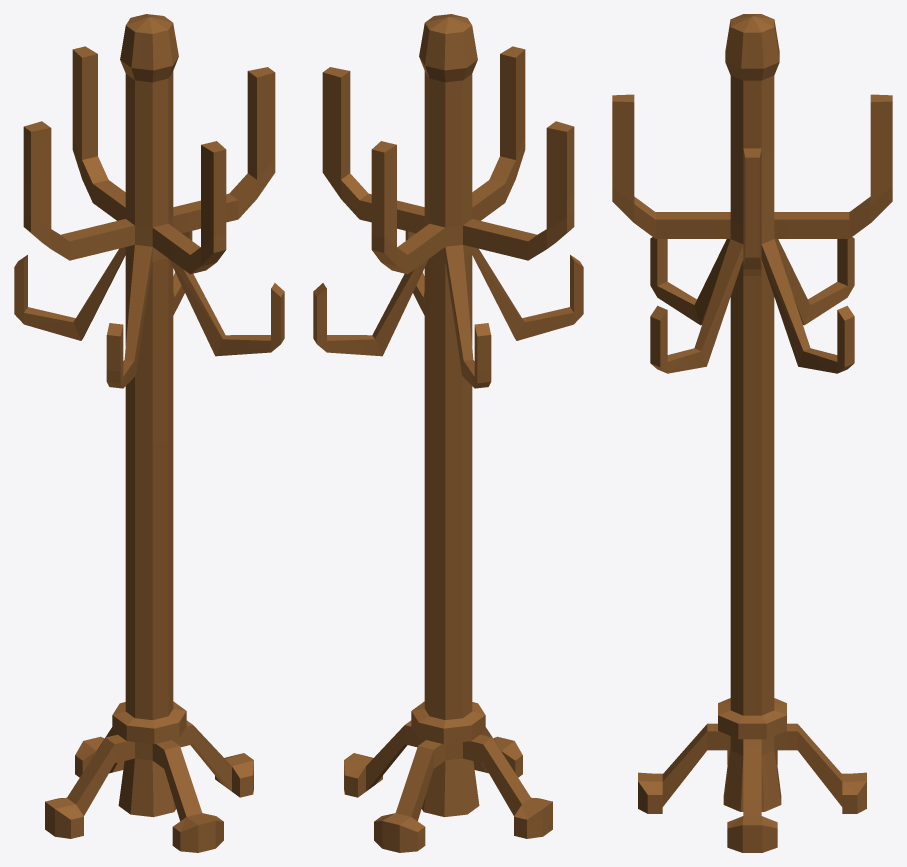
Rendered from Coat_Rack_01.fbx.
3 views of the same model, side by side, from view 1: azimuth 30°, elevation 25°; view 2: azimuth 150°, elevation 25°; view 3: azimuth 270°, elevation 25° (orthographic).
Parts seen in each view (by area): view 1: Coat_Rack_01; view 2: Coat_Rack_01; view 3: Coat_Rack_01.
Boxes of the visible parts, bbox=[...] form: Coat_Rack_01: bbox=[14, 14, 284, 852]; Coat_Rack_01: bbox=[313, 14, 583, 852]; Coat_Rack_01: bbox=[612, 14, 892, 852].
Size of the model in its own units: 0.5894 by 1.83 by 0.5894.
